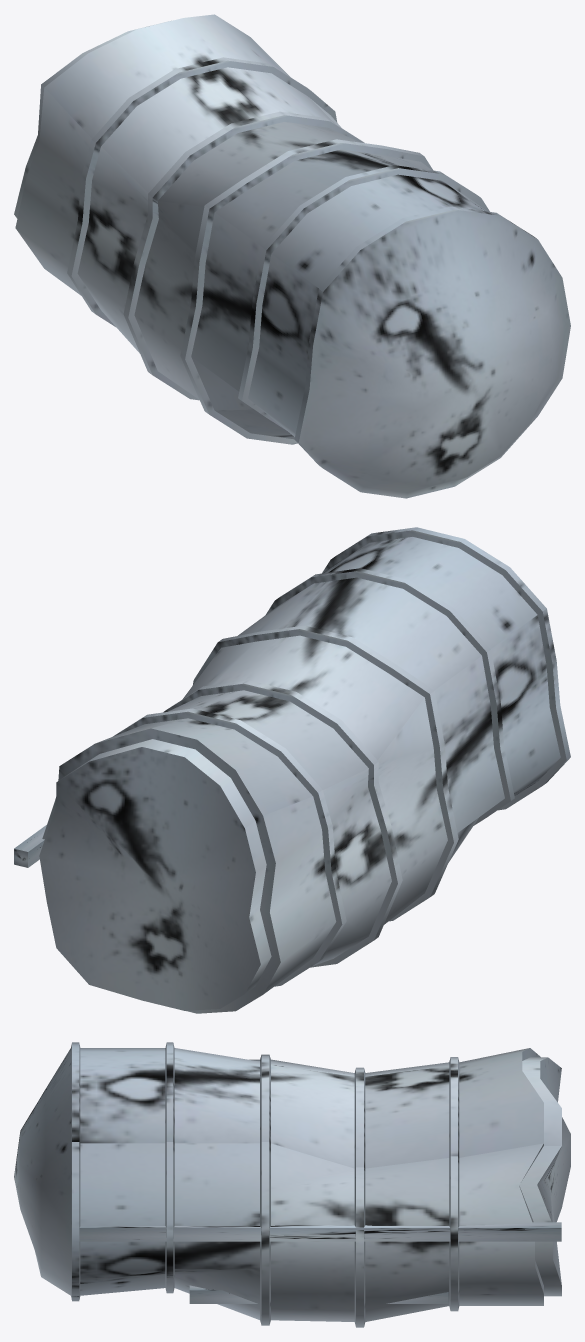
Rendered from LAJI03.gltf.
The picture shows the model from 3 angles, top to bottom: view 1: azimuth 30°, elevation 25°; view 2: azimuth 150°, elevation 25°; view 3: azimuth 270°, elevation 25°; orthographic projection. The views are drawn at different scales.
Visible parts, largest first — view 1: Cylinder001; view 2: Cylinder001, Box037; view 3: Cylinder001, Box037.
Part boxes in pixels (left/top/right/bottom): Cylinder001: left=14, top=14, right=570, bottom=498; Cylinder001: left=39, top=527, right=570, bottom=1013; Box037: left=14, top=825, right=46, bottom=867; Cylinder001: left=14, top=1042, right=570, bottom=1327; Box037: left=79, top=1222, right=561, bottom=1303.
Size of the model in its own units: 7.05 by 7.64 by 15.
1 material, 1 textured.
